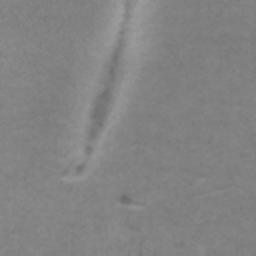Finishing roll printing: (86, 0, 136, 141), (83, 145, 95, 159), (74, 163, 88, 175)
